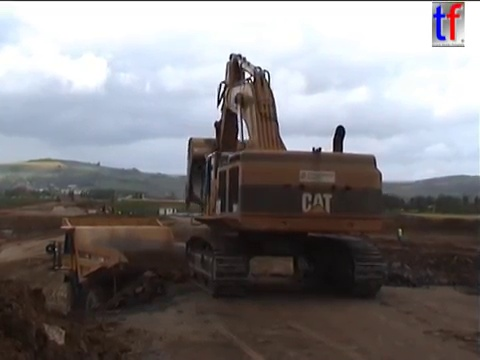excavator: (181, 50, 390, 301), (92, 202, 115, 218)
truck: (44, 214, 236, 324), (52, 196, 63, 204), (69, 195, 77, 204)
worker: (393, 221, 407, 244)
